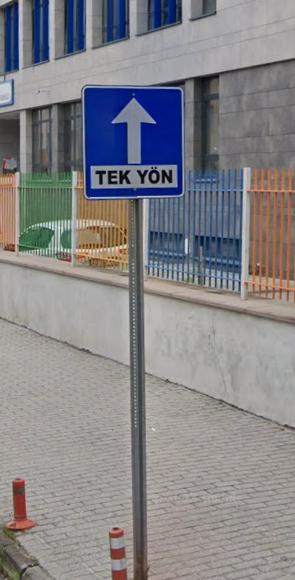forward: (85, 86, 184, 168)
